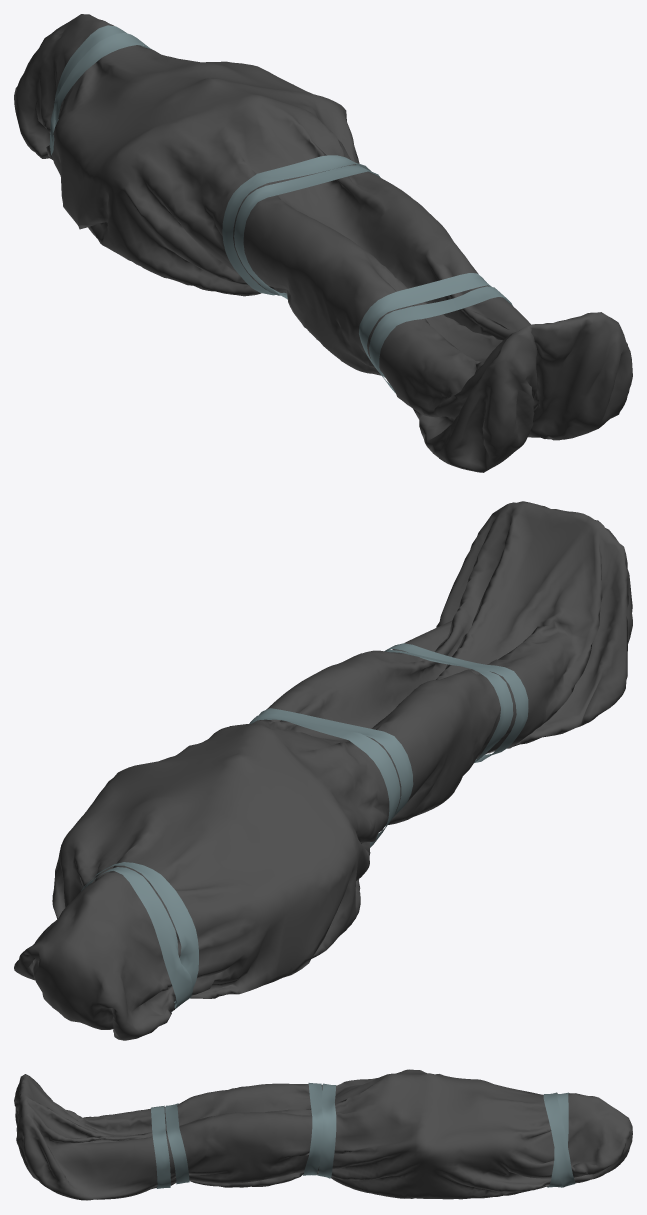
The model's file is body_bag.glb.
3 renders of one model, top to bottom at view 1: azimuth 30°, elevation 25°; view 2: azimuth 150°, elevation 25°; view 3: azimuth 270°, elevation 25°, orthographic. The views are drawn at different scales.
Parts seen in each view (by area): view 1: Object_4, Object_2; view 2: Object_4, Object_2; view 3: Object_4, Object_2.
Part boxes in pixels (bbox=[...]): Object_4: bbox=[14, 14, 632, 472]; Object_2: bbox=[49, 25, 512, 393]; Object_4: bbox=[14, 501, 632, 1040]; Object_2: bbox=[81, 643, 528, 1011]; Object_4: bbox=[14, 1069, 632, 1200]; Object_2: bbox=[151, 1083, 575, 1188].
Size of the model in its own units: 0.5272 by 0.3373 by 1.9.
